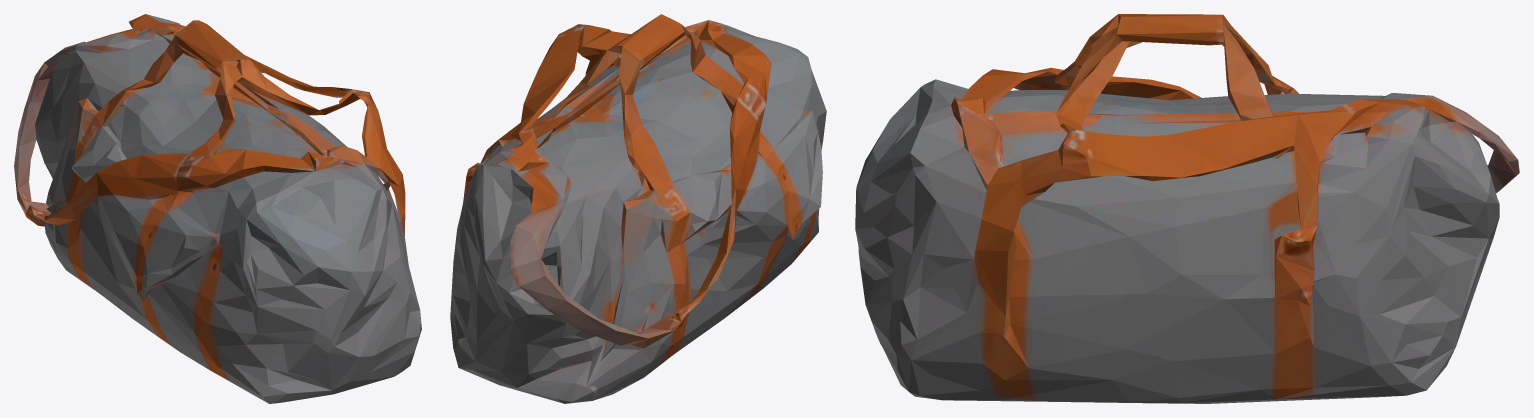
The model's file is clue_bag.glb.
3 renders of one model, left to right at view 1: azimuth 30°, elevation 25°; view 2: azimuth 150°, elevation 25°; view 3: azimuth 270°, elevation 25°, orthographic. The views are drawn at different scales.
Visible parts, largest first — view 1: textured_mesh.obj; view 2: textured_mesh.obj; view 3: textured_mesh.obj.
Boxes of the visible parts, x1=… form: textured_mesh.obj: x1=14, y1=14, x2=421, y2=403; textured_mesh.obj: x1=450, y1=14, x2=826, y2=403; textured_mesh.obj: x1=855, y1=14, x2=1519, y2=403.
Bounding box in the file's own units: 0.5607 × 0.6 × 1.08.
Materials: 1 (1 with a texture image).
